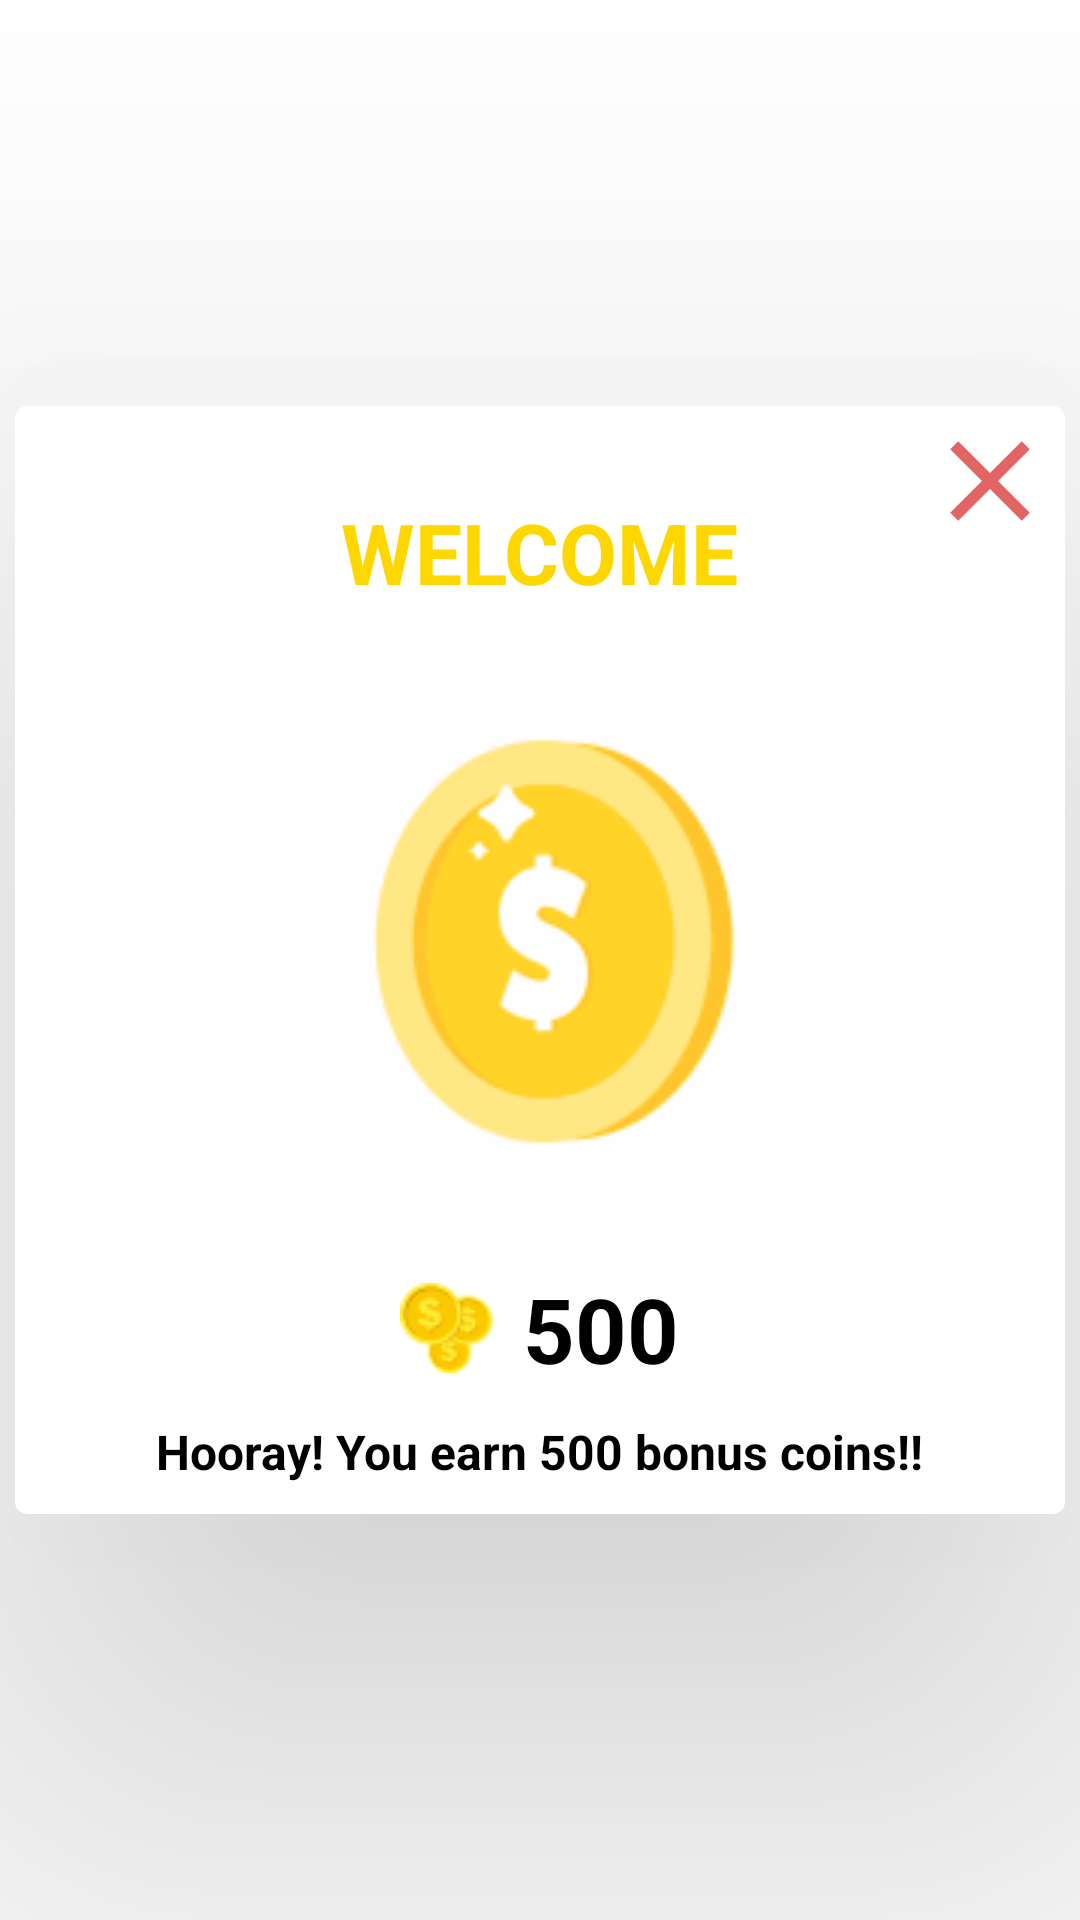

Where icons sit on this 1080px×1920px app screen, as Rect(x1, y1, x2, y2):
cross: Rect(950, 441, 1030, 521)
